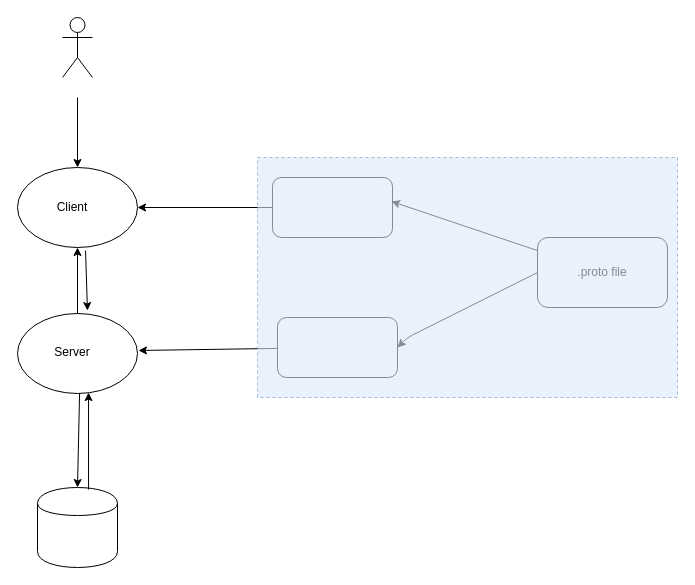
The diagram is 695 pixels wide and 585 high, and some of its shapes have lost their labels. The centre of each missing label's shape, as x and y in pixels:
"MongoDB" goes at point (77, 527).
"User" goes at point (77, 47).
